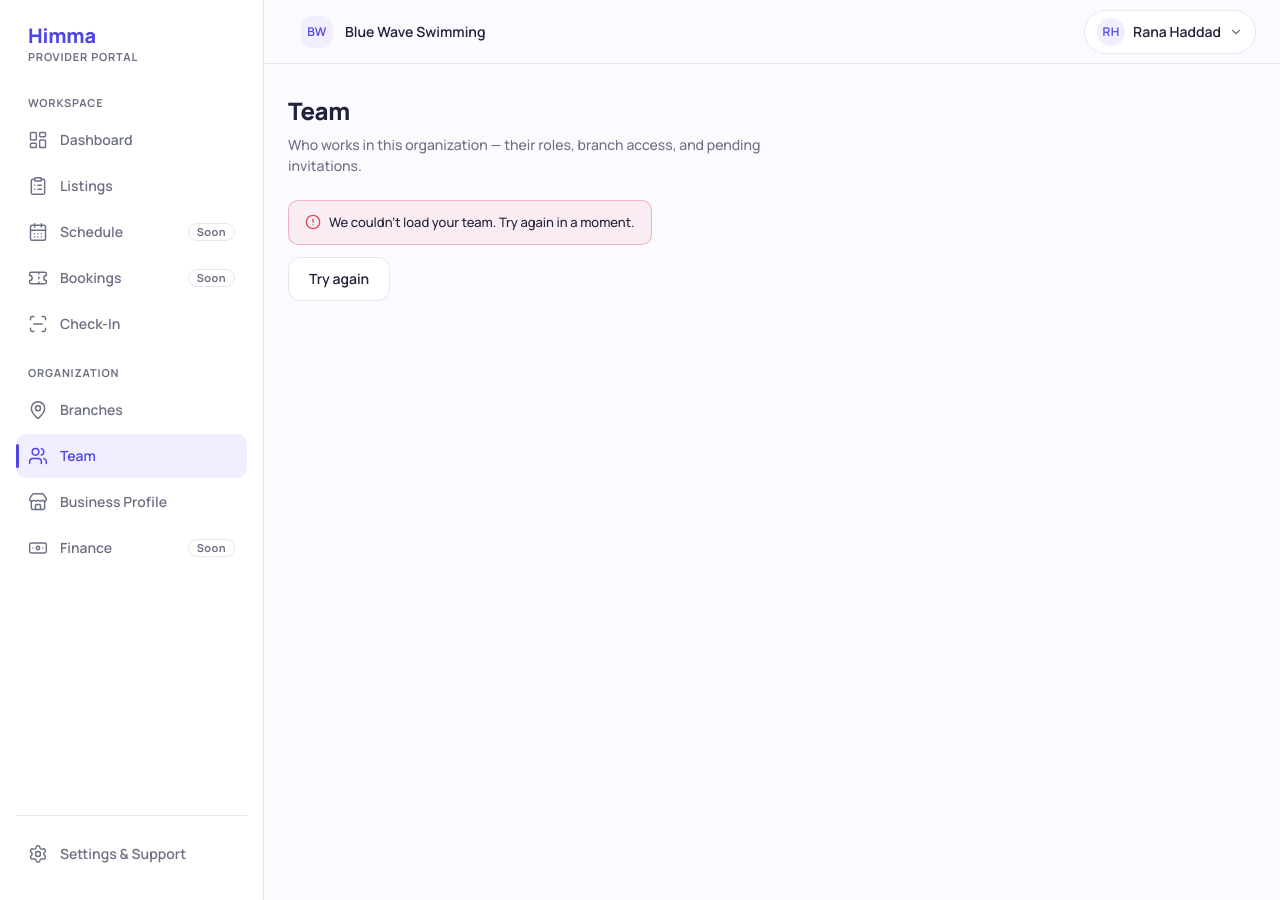
Test case: team index (W2-6) › a transient staff failure renders a retryable error, and retry recovers
The width and height of the screenshot is (1280, 900).
Expected: the text "We couldn’t load your team. Try again in a moment." is shown, [329,213,634,232]
Click the button "Try again": (339, 279) [288,257,390,301]
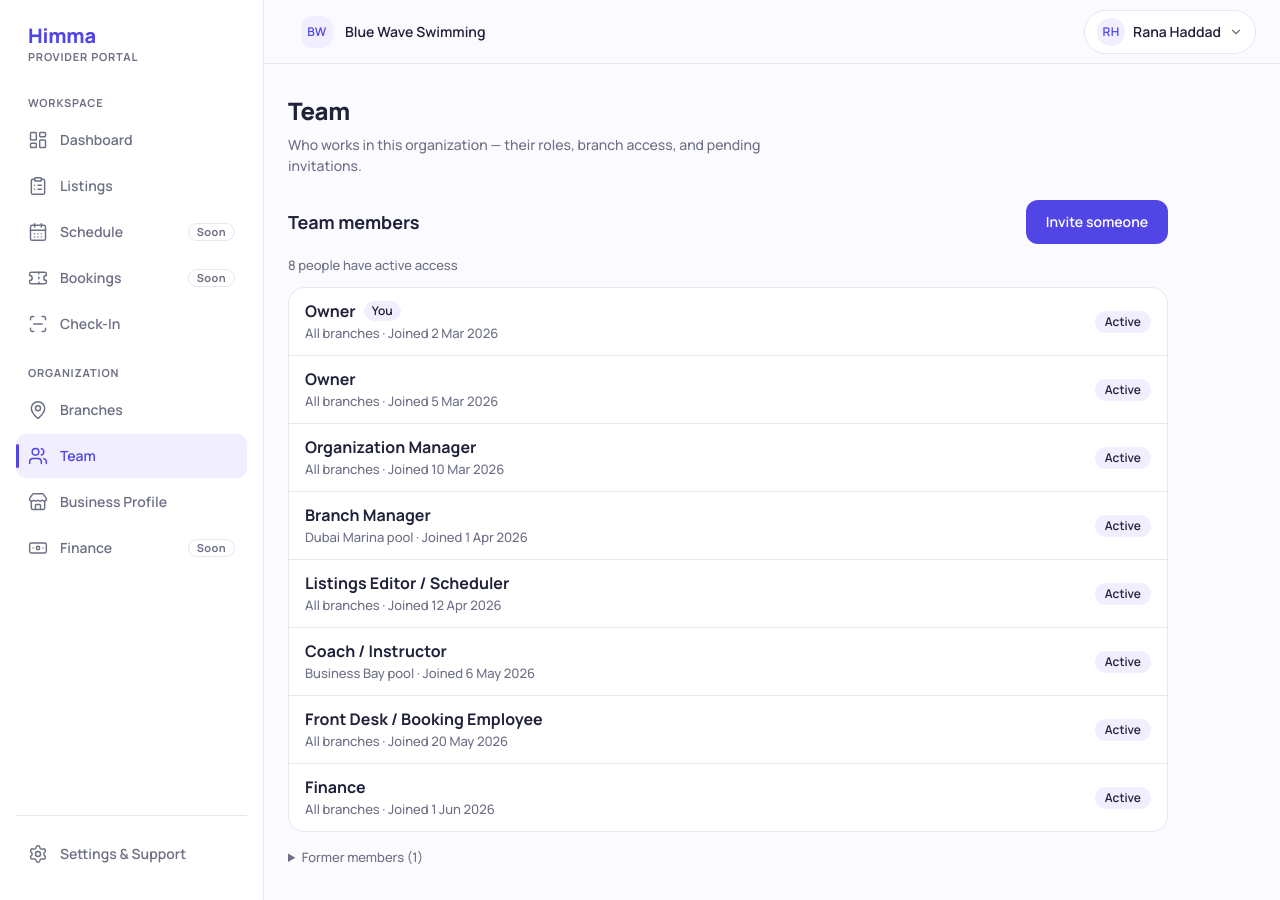
Now the list named "Team members" is shown, box [288,287,1168,832]
